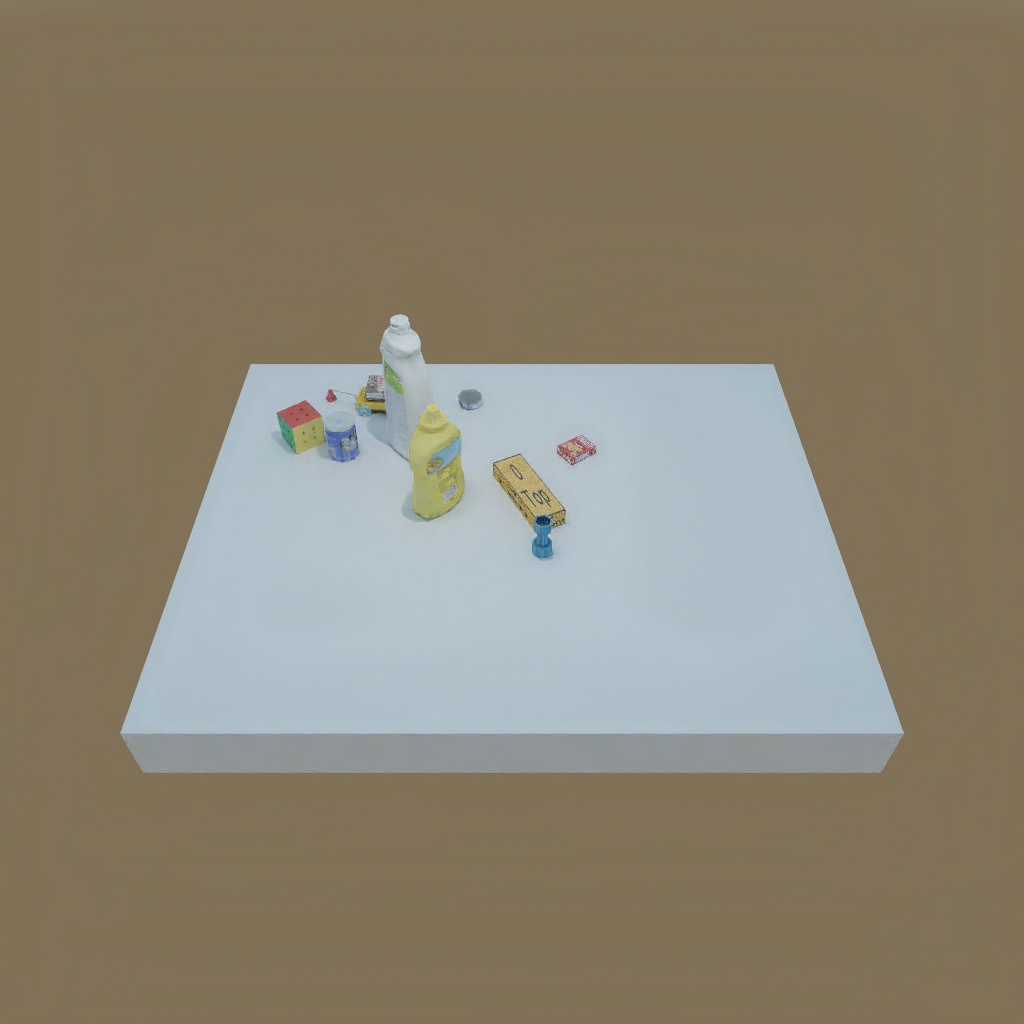jenga: (491, 450, 568, 529)
master_chef_can: (322, 407, 363, 465)
mustard_bottle: (407, 409, 470, 524)
pudding_box: (365, 374, 389, 397)
rubiks_cube: (272, 403, 330, 450)
